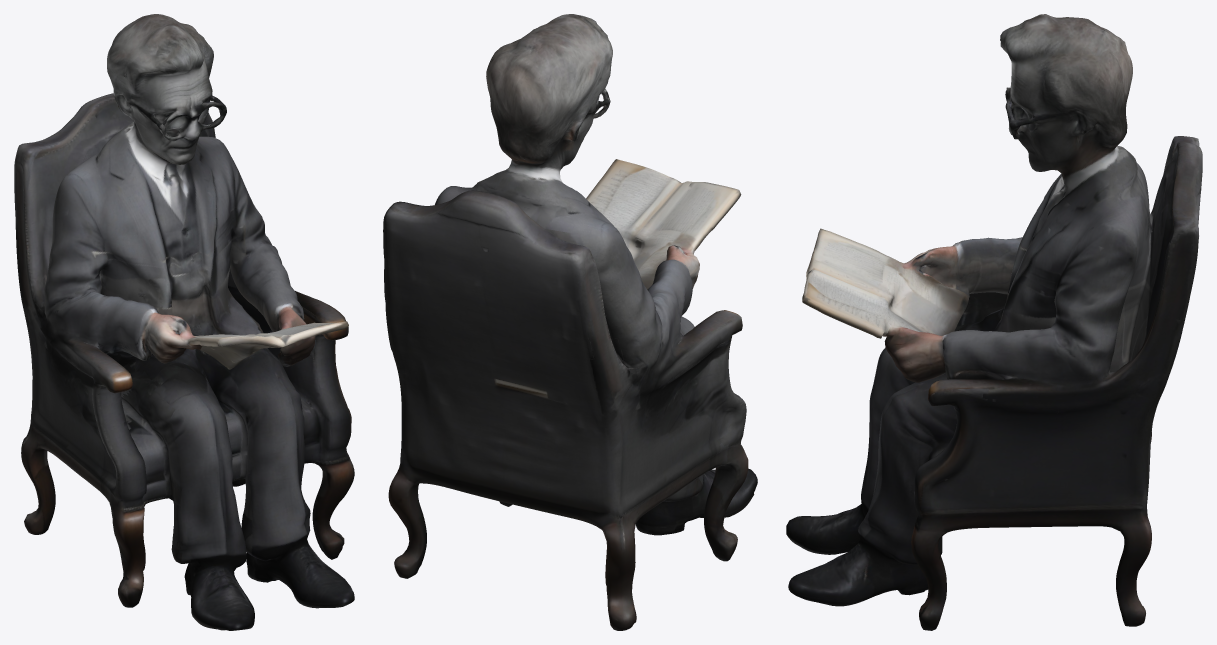
The model's file is Erwin_Schroedinger_sitting.glb.
3 renders of one model, left to right at view 1: azimuth 30°, elevation 25°; view 2: azimuth 150°, elevation 25°; view 3: azimuth 270°, elevation 25°, orthographic. The views are drawn at different scales.
Size of the model in its own units: 0.981 by 2.02 by 1.37.
Materials: 1 (1 with a texture image).
